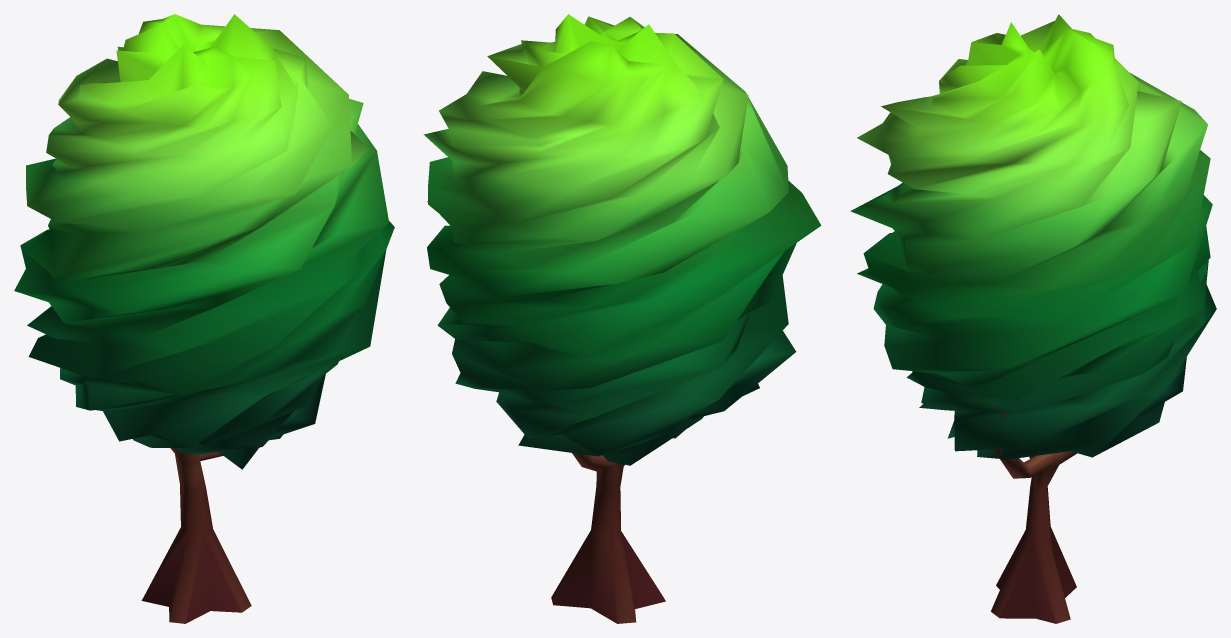
File: Tree_2J.fbx
3 renders of one model, left to right at view 1: azimuth 30°, elevation 25°; view 2: azimuth 150°, elevation 25°; view 3: azimuth 270°, elevation 25°, orthographic.
Visible parts, largest first — view 1: Tree_2J; view 2: Tree_2J; view 3: Tree_2J.
Boxes of the visible parts, <box> form: Tree_2J: <box>14,14,394,623</box>; Tree_2J: <box>423,14,821,623</box>; Tree_2J: <box>850,14,1216,623</box>.
Size of the model in its own units: 250 by 390 by 227.
